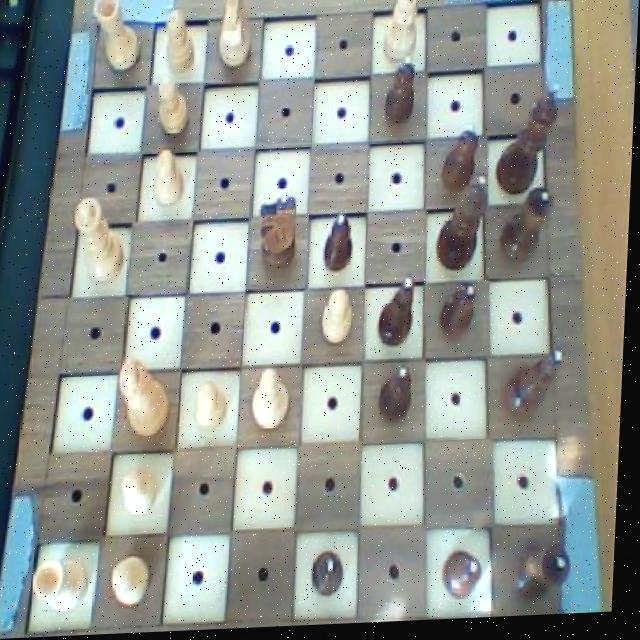bishop: (501, 350, 570, 431), (376, 277, 424, 355)
black-bishop: (494, 83, 566, 208)
black-king: (257, 184, 307, 274)
black-knight: (437, 126, 484, 199), (376, 363, 421, 430), (437, 283, 483, 347), (444, 550, 494, 606), (382, 58, 419, 131), (322, 212, 360, 277), (311, 549, 357, 602)
black-pawn: (438, 175, 498, 280)
black-queen: (501, 183, 559, 274), (510, 545, 583, 610)
black-rook: (249, 364, 297, 441), (380, 0, 426, 71)
white-bishop: (117, 352, 183, 443)
white-king: (214, 0, 260, 77)
white-knight: (160, 2, 201, 80), (119, 461, 167, 526), (319, 288, 365, 355), (147, 145, 190, 214), (114, 552, 160, 615), (153, 74, 196, 141), (197, 378, 236, 437)
white-pawn: (70, 191, 131, 294)
white-queen: (91, 0, 149, 84), (32, 548, 99, 620)
